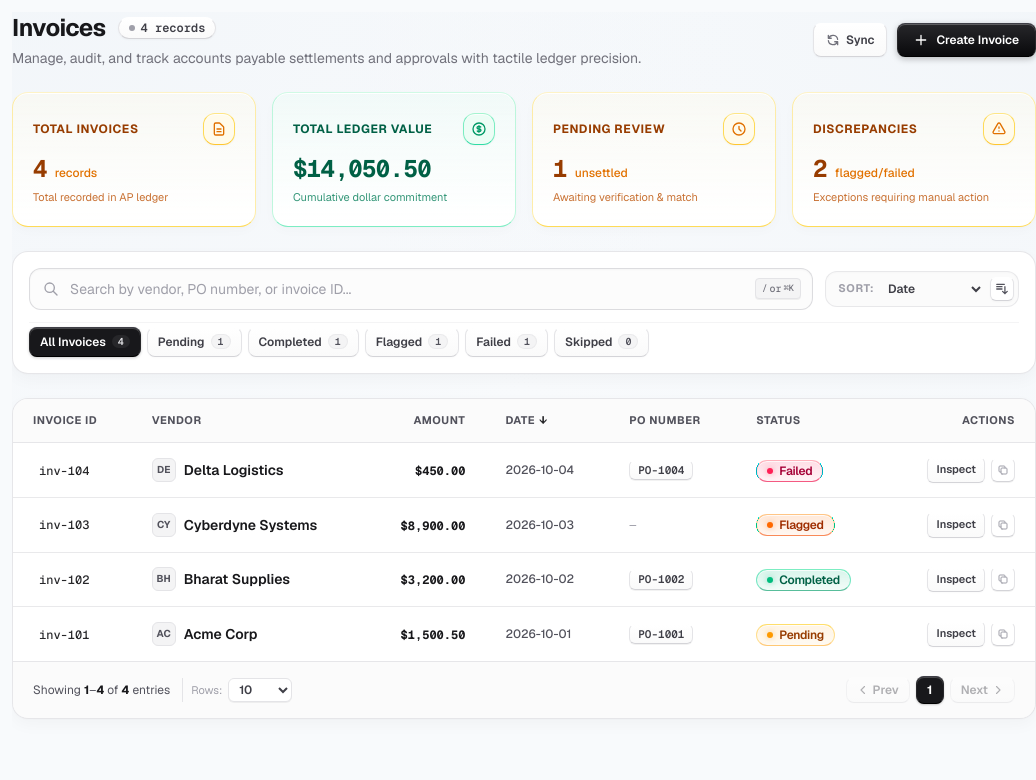
it: InvoicesPage Component › filters invoices by search query
Expected: the text "Acme Corp" is shown, [184,624,258,644]
Step 1. Type "Bharat" into the field with placeholder "Search by vendor, PO number, or invoice ID..." → (421, 288), box [29,268,813,310]
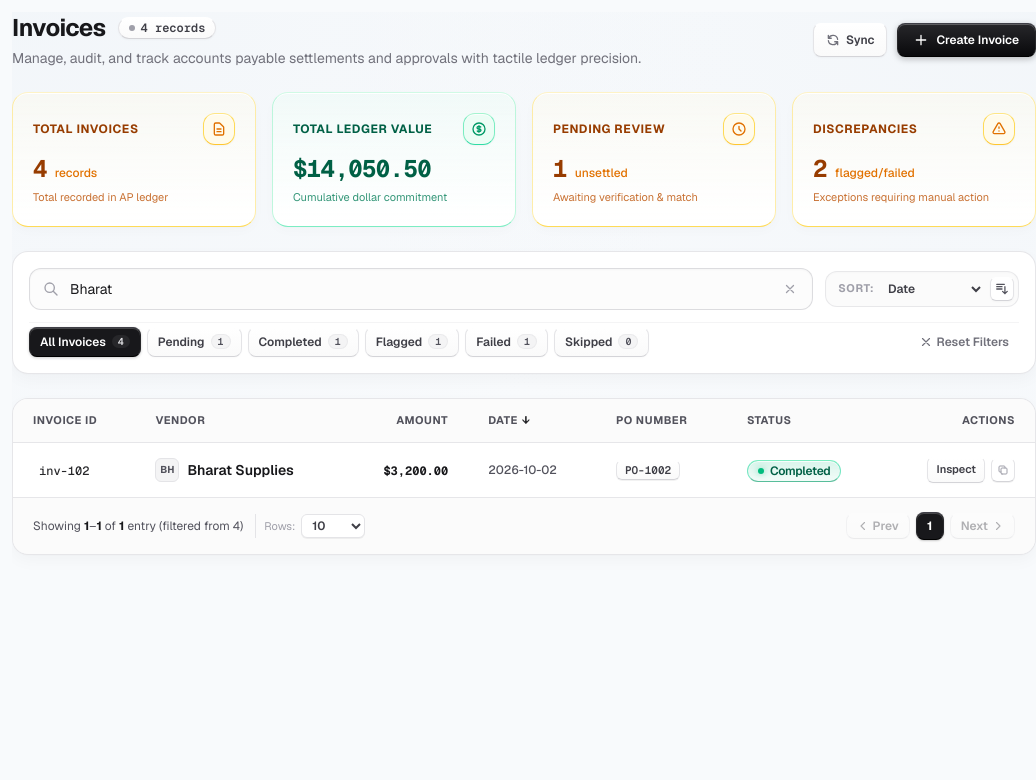
Expected: the text "Bharat Supplies" is shown, [187,460,294,480]
Expected: the text "Acme Corp" is gone
Expected: the text "Cyberdyne Systems" is gone
// Clear search
Step 2. Click the button titled "Clear search" → (790, 288), box [779,278,801,300]
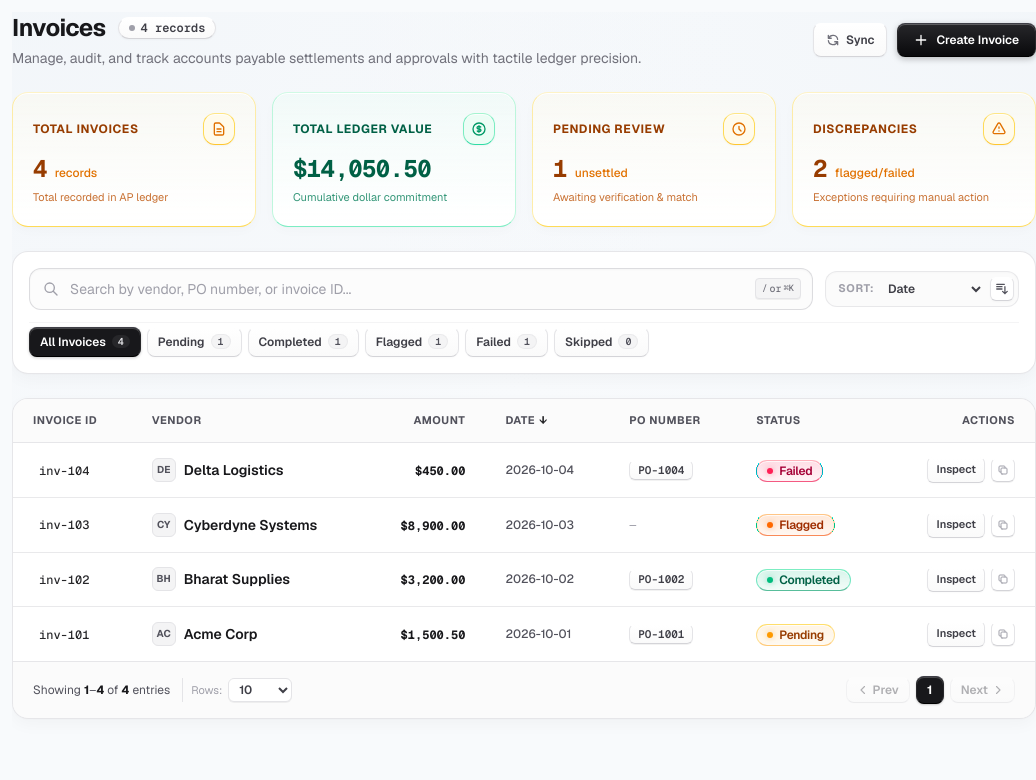
Expected: the text "Acme Corp" is shown, [184,624,258,644]
